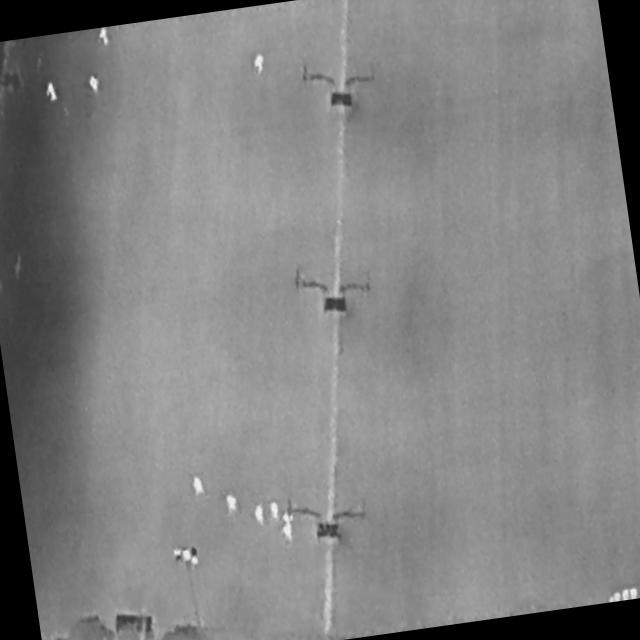person: (254, 54, 268, 76), (283, 524, 296, 546), (227, 495, 240, 516), (46, 82, 59, 102), (90, 76, 103, 96), (194, 477, 207, 497), (255, 506, 266, 527), (100, 28, 111, 47), (270, 502, 281, 521), (284, 512, 296, 528)
